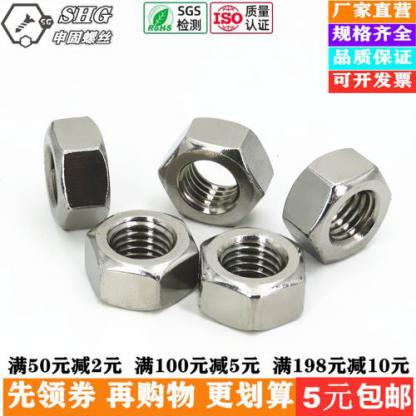FOD: (281, 146, 396, 267), (155, 116, 278, 226), (187, 224, 308, 334), (82, 207, 202, 313), (38, 113, 111, 240)
